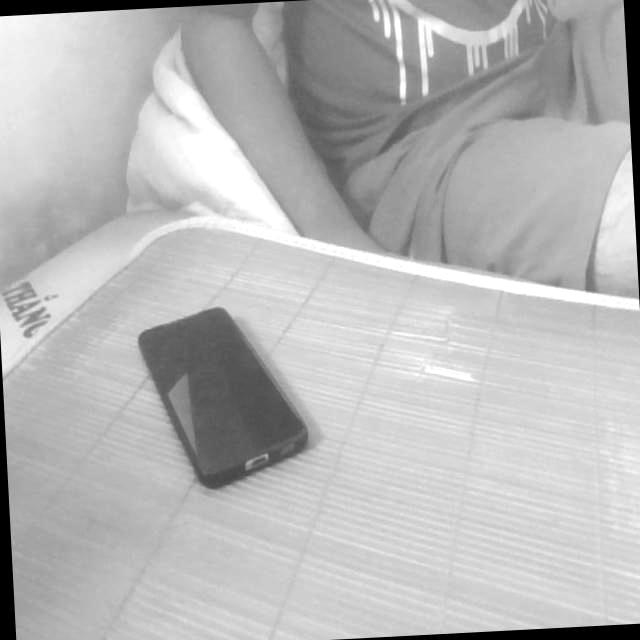phone: (122, 284, 324, 504)
